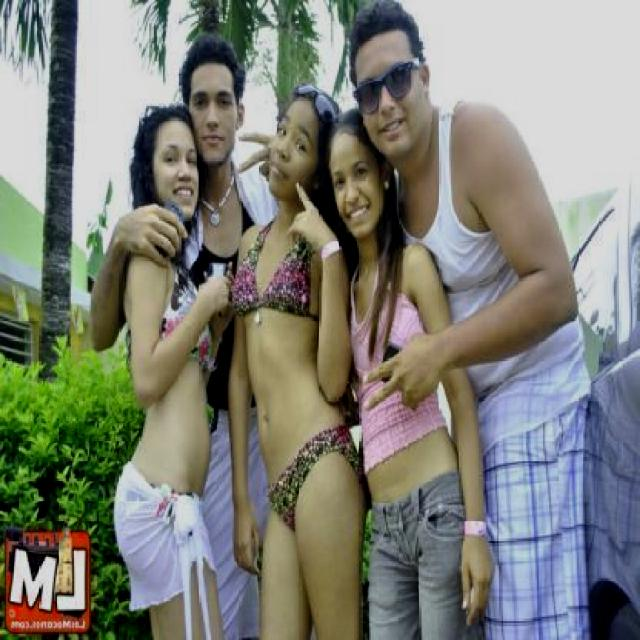face_nomask: (352, 60, 425, 146), (262, 116, 318, 192), (330, 158, 378, 224), (191, 84, 238, 150), (159, 142, 204, 207)
glasses: (348, 54, 426, 115)
hand_noglove: (357, 328, 448, 420), (115, 194, 191, 264), (452, 525, 501, 624), (284, 180, 338, 252), (223, 509, 269, 576), (189, 269, 242, 320)
head_nohelmet: (344, 0, 425, 46), (280, 73, 342, 119), (179, 38, 243, 79), (328, 104, 378, 148), (138, 100, 196, 137)
person: (348, 6, 587, 606), (328, 106, 482, 640), (240, 74, 360, 640), (174, 44, 279, 640), (116, 94, 219, 640)
